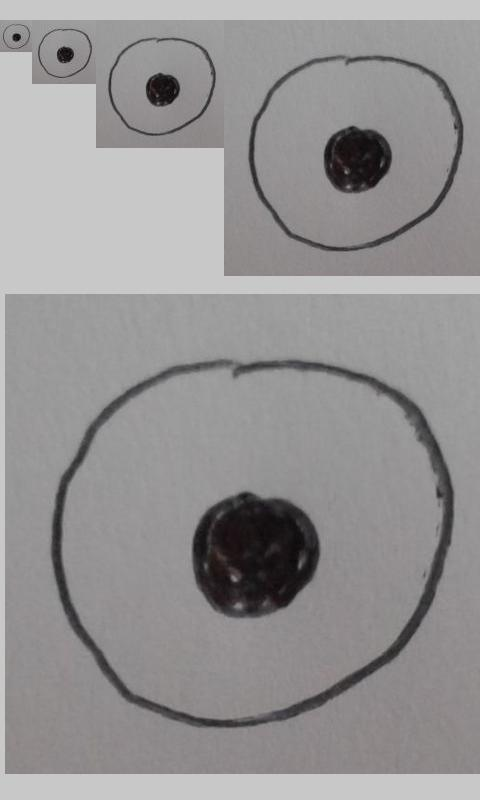radio_button: (46, 356, 458, 734), (248, 53, 464, 253), (107, 36, 217, 137), (37, 28, 94, 79), (2, 23, 31, 50)
